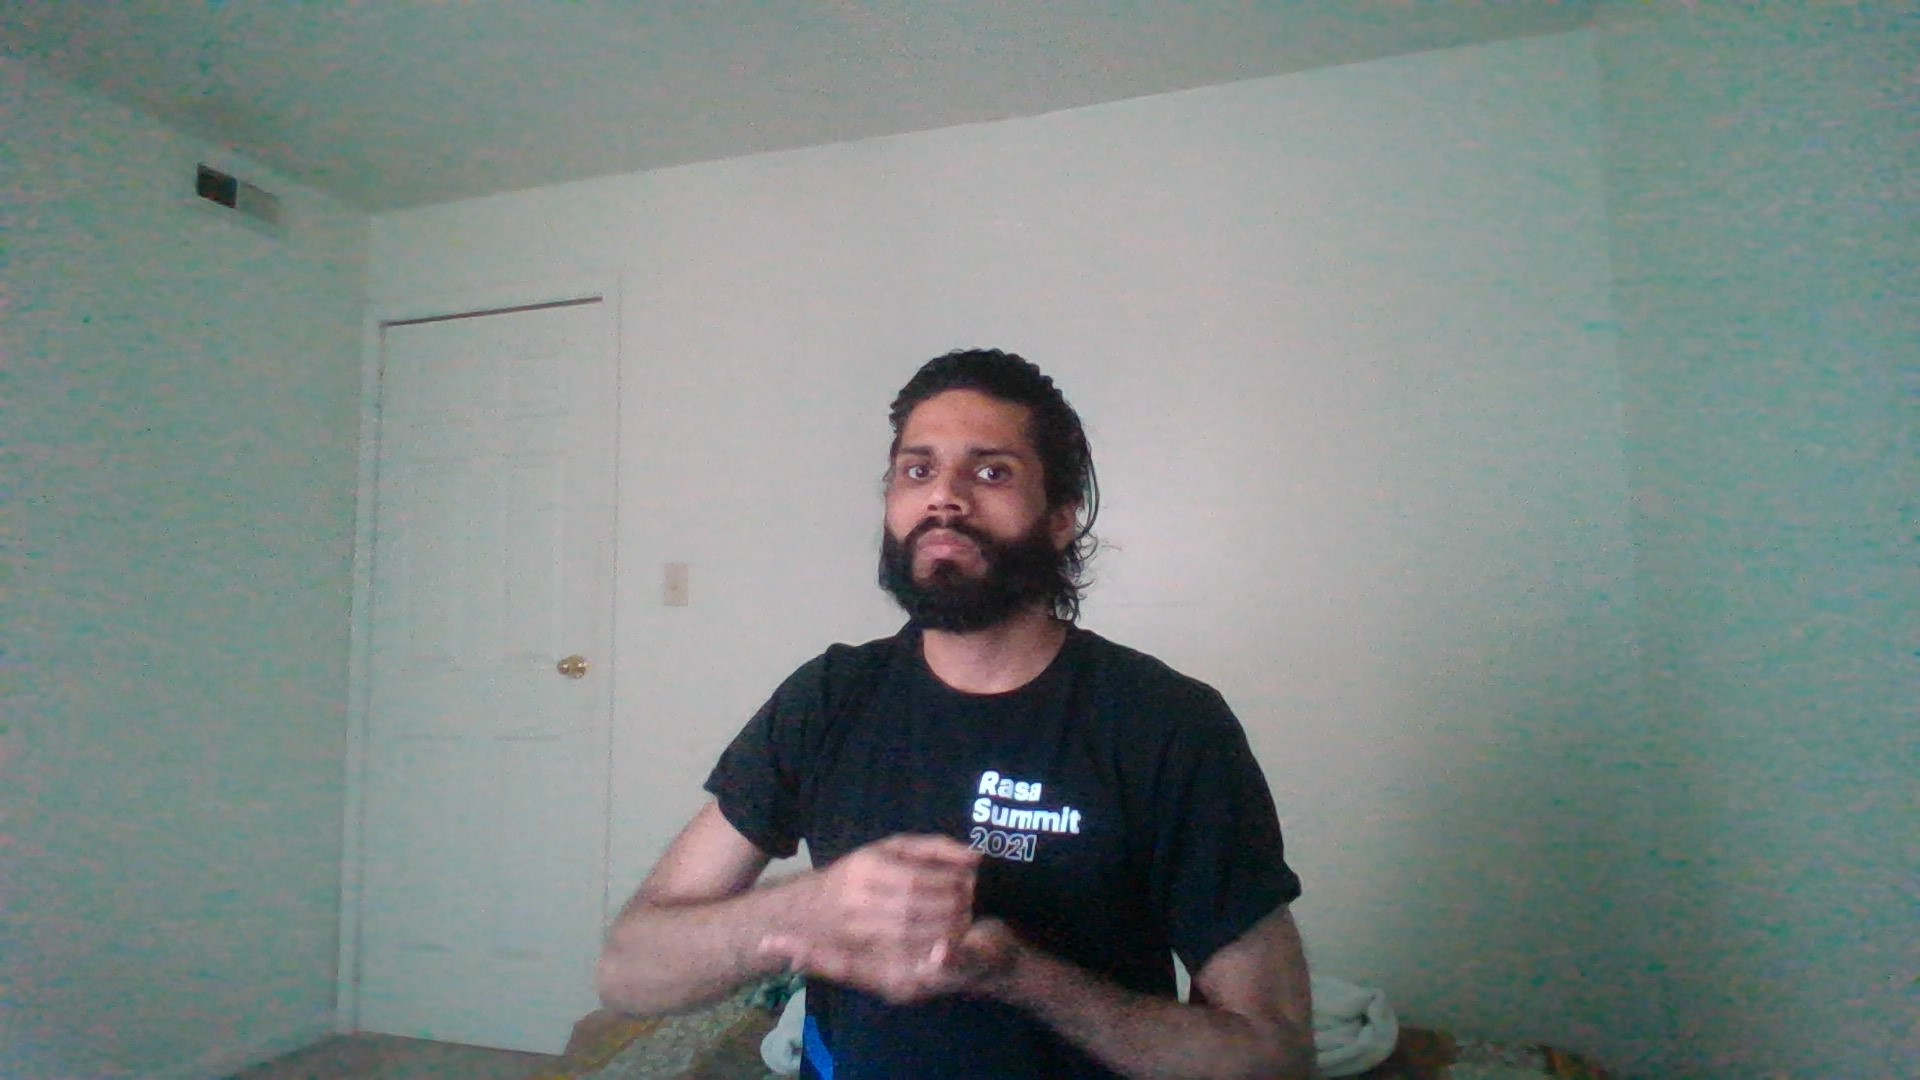Cup: (686, 803, 1109, 1044)
